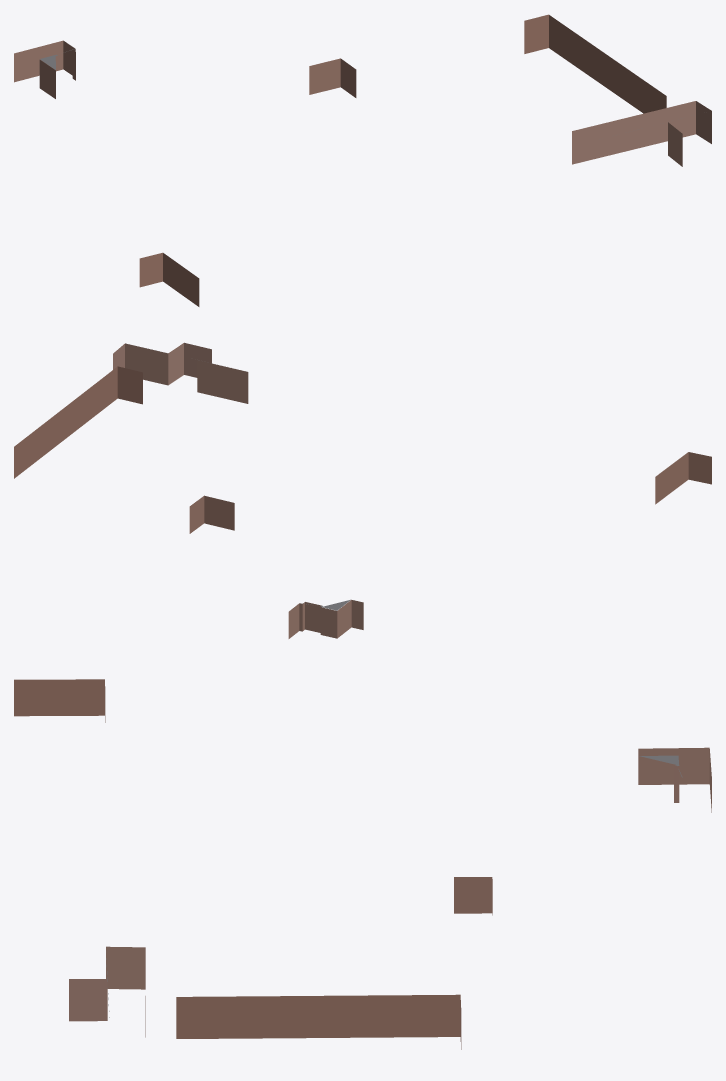
The model's file is c_1629_17836_buildings_residential.glb.
3 views of the same model, one above another, from view 1: azimuth 30°, elevation 25°; view 2: azimuth 150°, elevation 25°; view 3: azimuth 270°, elevation 25° (orthographic). The views are drawn at different scales.
Parts seen in each view (by area): view 1: geometry_0; view 2: geometry_0; view 3: geometry_0.
Part boxes in pixels (left/top/right/bottom): geometry_0: left=14, top=14, right=711, bottom=306; geometry_0: left=14, top=342, right=711, bottom=638; geometry_0: left=14, top=679, right=711, bottom=1049.
Size of the model in its own units: 197 by 11.6 by 165.
